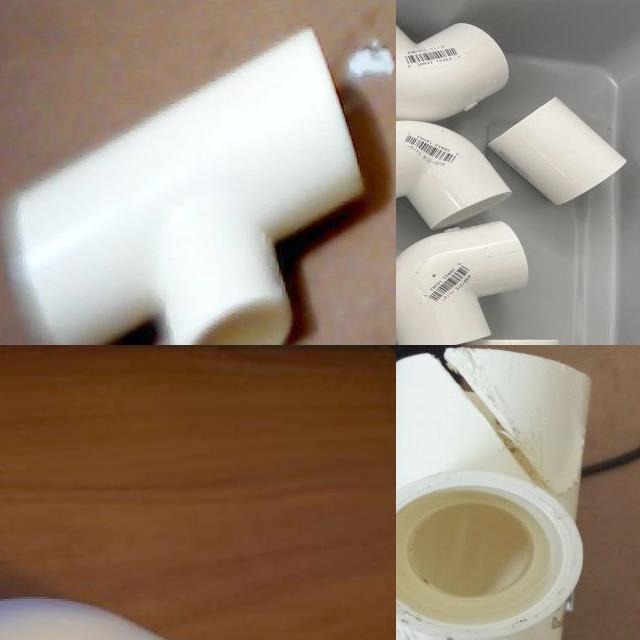Defective: (439, 348, 589, 514)
L Joint: (396, 228, 527, 345), (396, 121, 511, 231), (396, 22, 511, 123)
T Joint: (2, 30, 364, 345), (396, 348, 591, 640)
